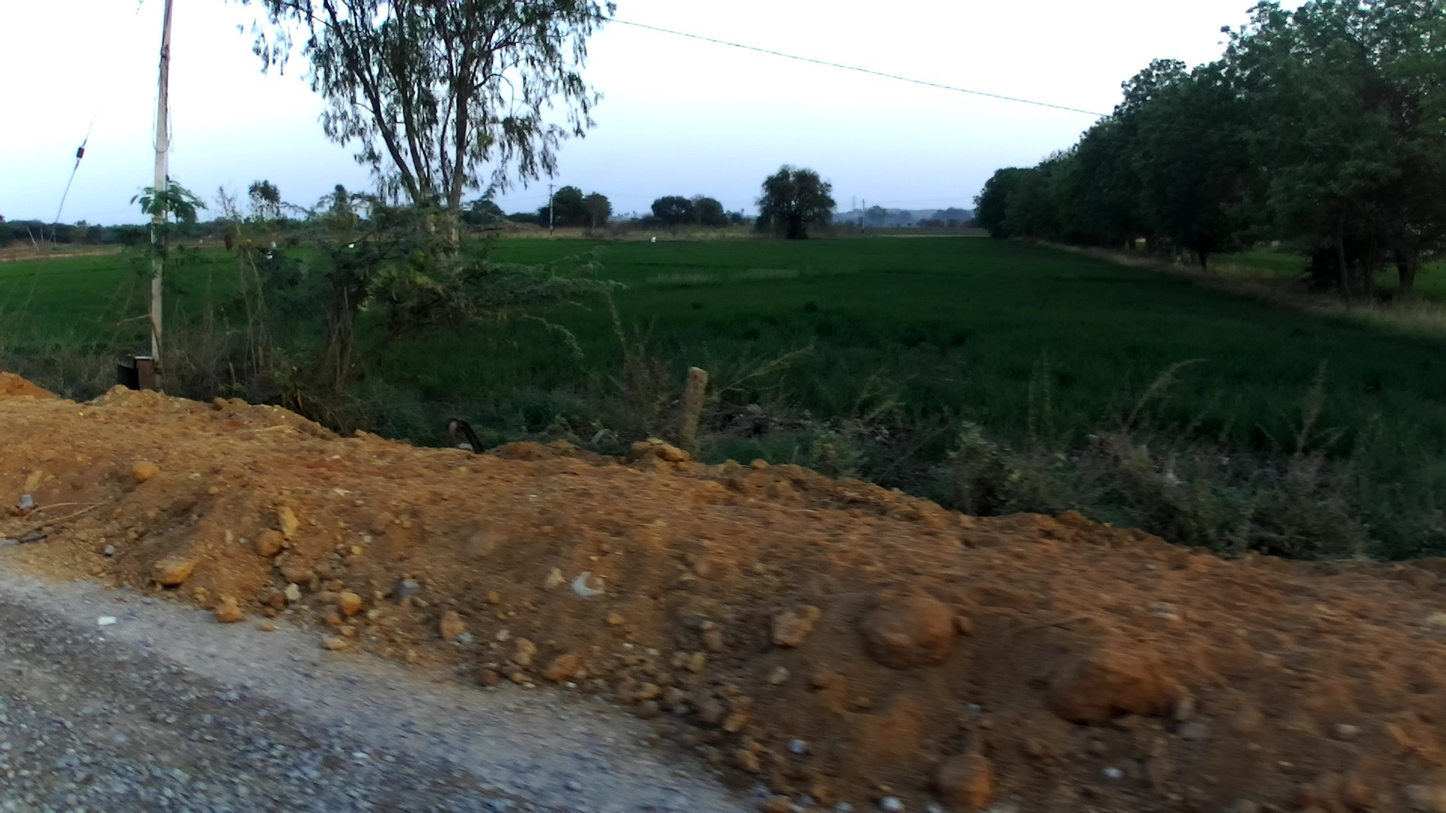person: (222, 234, 233, 257)
